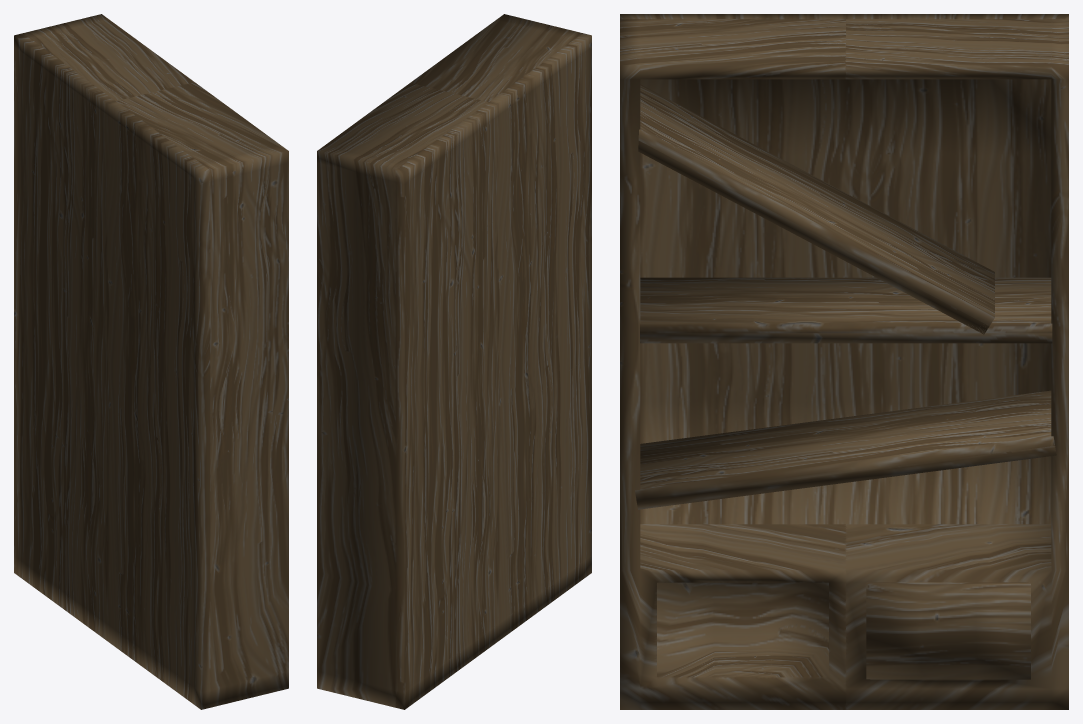
File: Librero.fbx
The picture shows the model from 3 angles, left to right: view 1: azimuth 30°, elevation 25°; view 2: azimuth 150°, elevation 25°; view 3: azimuth 270°, elevation 25°; orthographic projection. The views are drawn at different scales.
Visible parts, largest first — view 1: Soporte_Libro; view 2: Soporte_Libro; view 3: Soporte_Libro, Cube, Cube.002, Cube.001.
Boxes of the visible parts, box(x1,y1,x2,y2) form: Soporte_Libro: box(14, 14, 288, 709); Soporte_Libro: box(317, 14, 591, 709); Soporte_Libro: box(620, 14, 1068, 709); Cube: box(635, 390, 1056, 509); Cube.002: box(638, 84, 994, 334); Cube.001: box(640, 277, 1052, 343).
Size of the model in its own units: 307 by 1732 by 1092.
